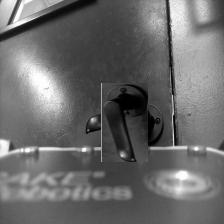Door Handle: (93, 91, 157, 154)
